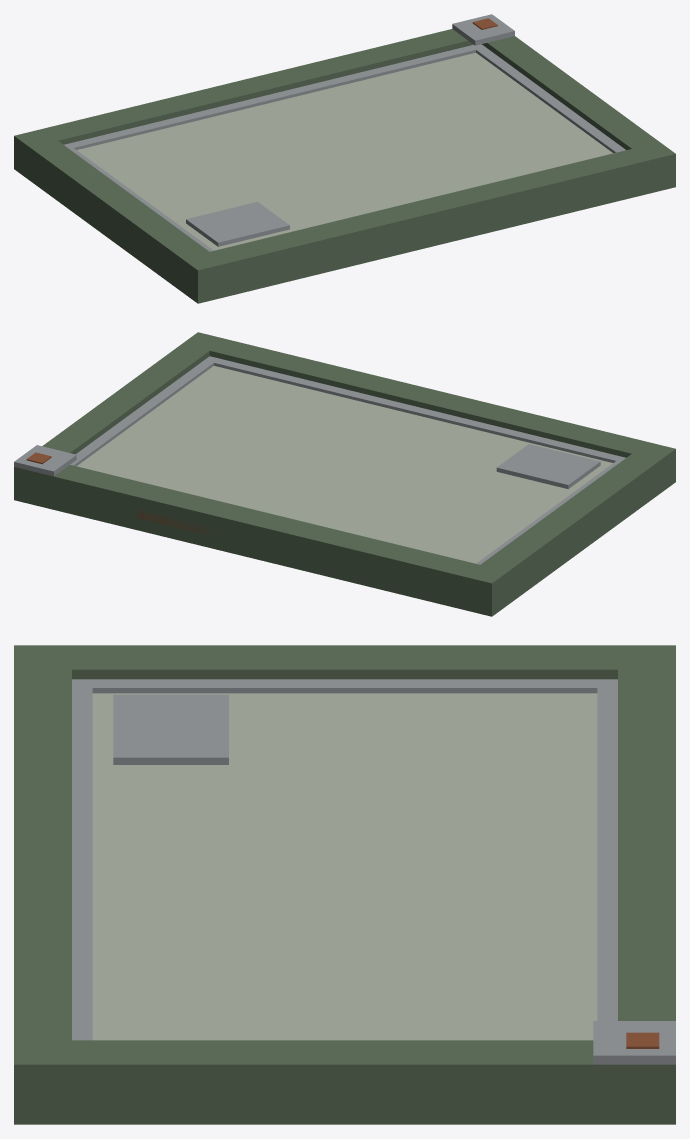
Rendered from access_card_woodland.glb.
The picture shows the model from 3 angles, top to bottom: view 1: azimuth 30°, elevation 25°; view 2: azimuth 150°, elevation 25°; view 3: azimuth 270°, elevation 25°; orthographic projection. The views are drawn at different scales.
Parts seen in each view (by area): view 1: Card_Body; view 2: Card_Body; view 3: Card_Body.
Boxes of the visible parts, x1=… form: Card_Body: x1=14, y1=14, x2=675, y2=303; Card_Body: x1=14, y1=332, x2=675, y2=616; Card_Body: x1=14, y1=645, x2=675, y2=1124.
Bounding box in the file's own units: 0.12 × 0.0095 × 0.08.
